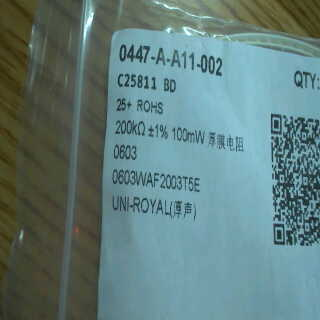200kR: (108, 115, 147, 140)
